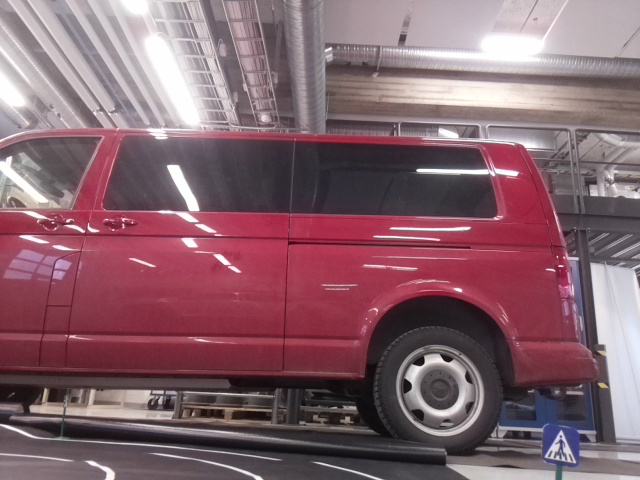Crosswalk: (540, 420, 580, 467)
